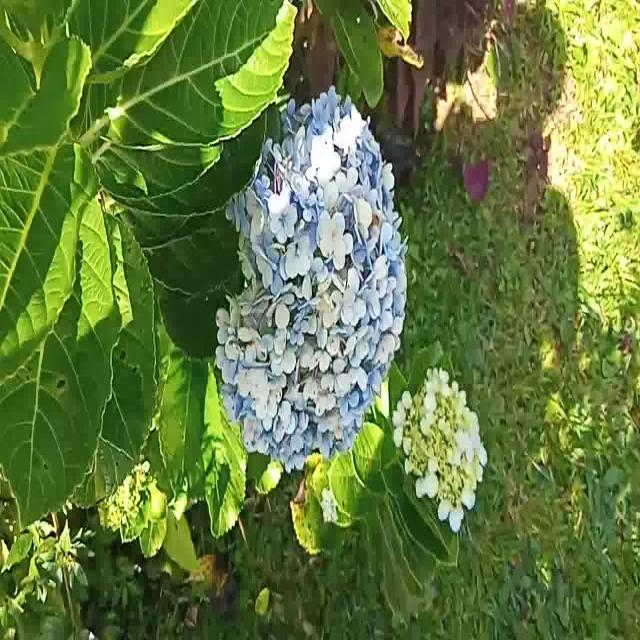Flower: (215, 88, 409, 478), (394, 369, 491, 542)
